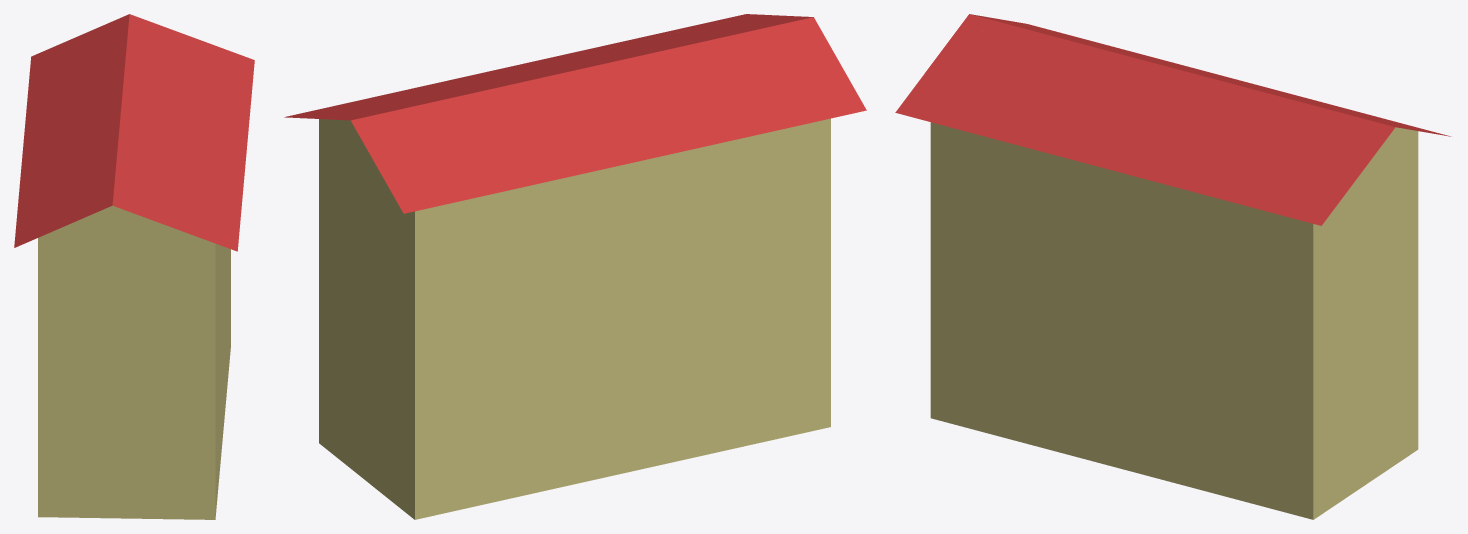
3 renders of one model, left to right at view 1: azimuth 30°, elevation 25°; view 2: azimuth 150°, elevation 25°; view 3: azimuth 270°, elevation 25°, orthographic. The views are drawn at different scales.
Bounding box in the file's own units: 9.32 × 10.89 × 7.7.
